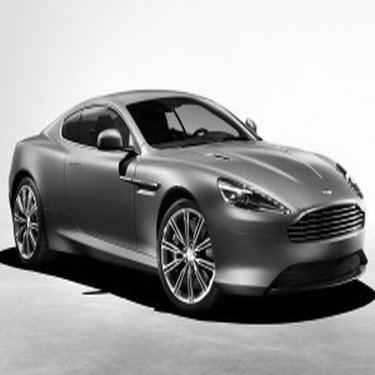car: (1, 85, 367, 319)
